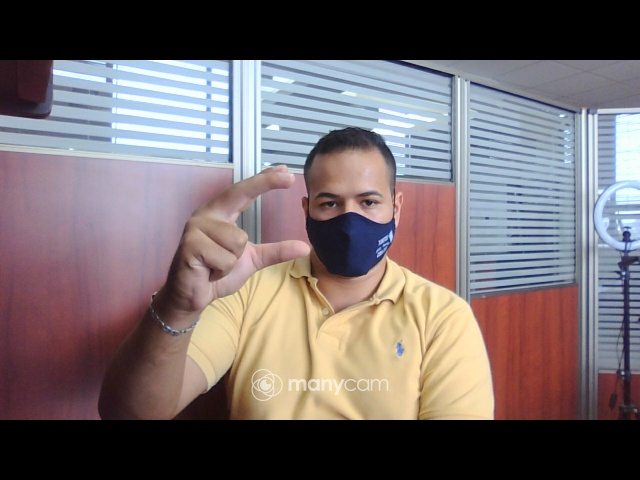No: (161, 163, 312, 316)
